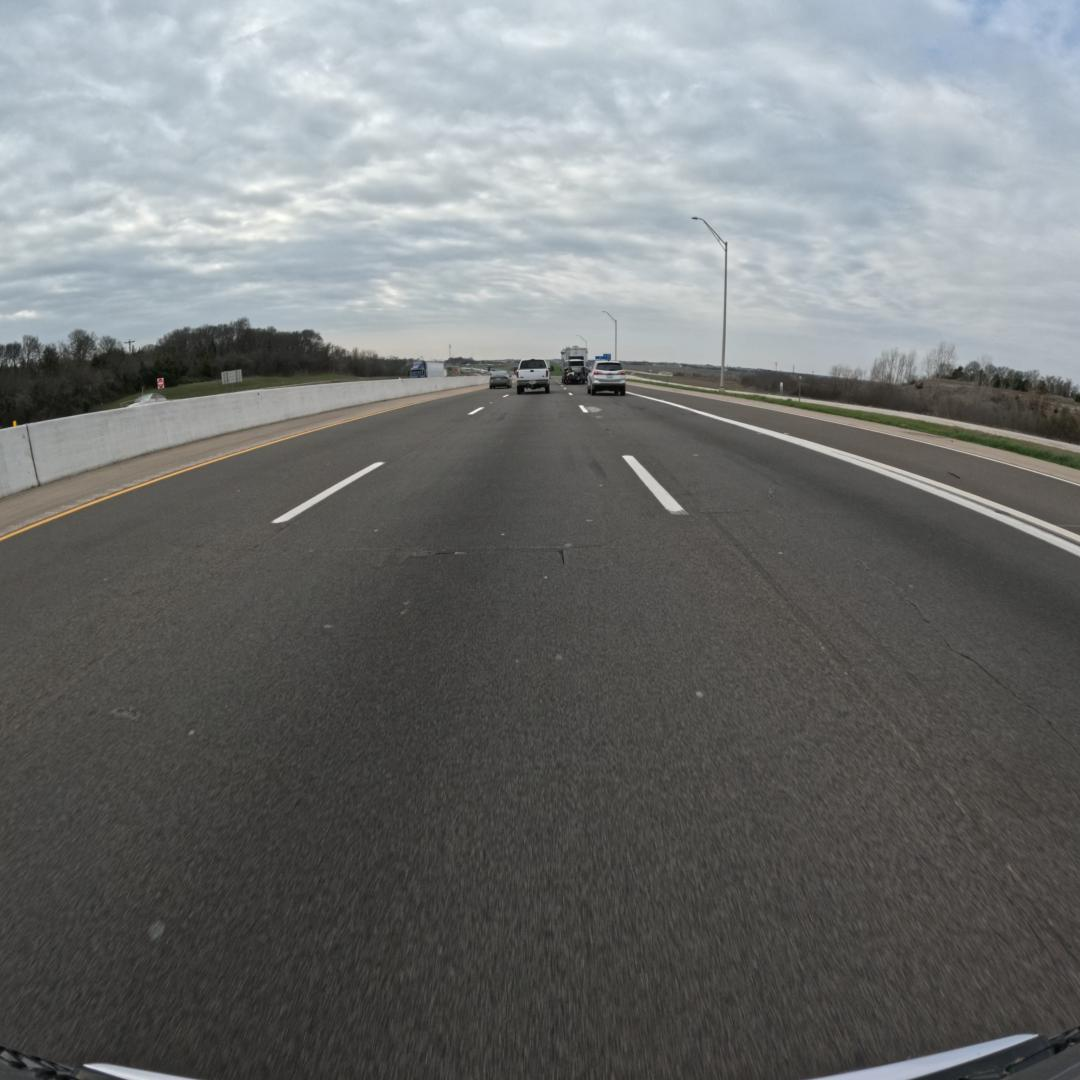lane-1: (558, 377, 1079, 1025)
lane0: (0, 378, 1071, 1079)
lane1: (0, 382, 517, 738)
